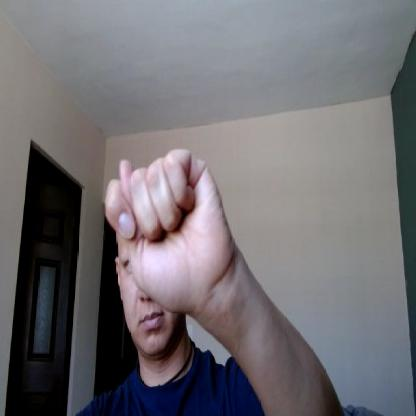T: (105, 141, 224, 314)
